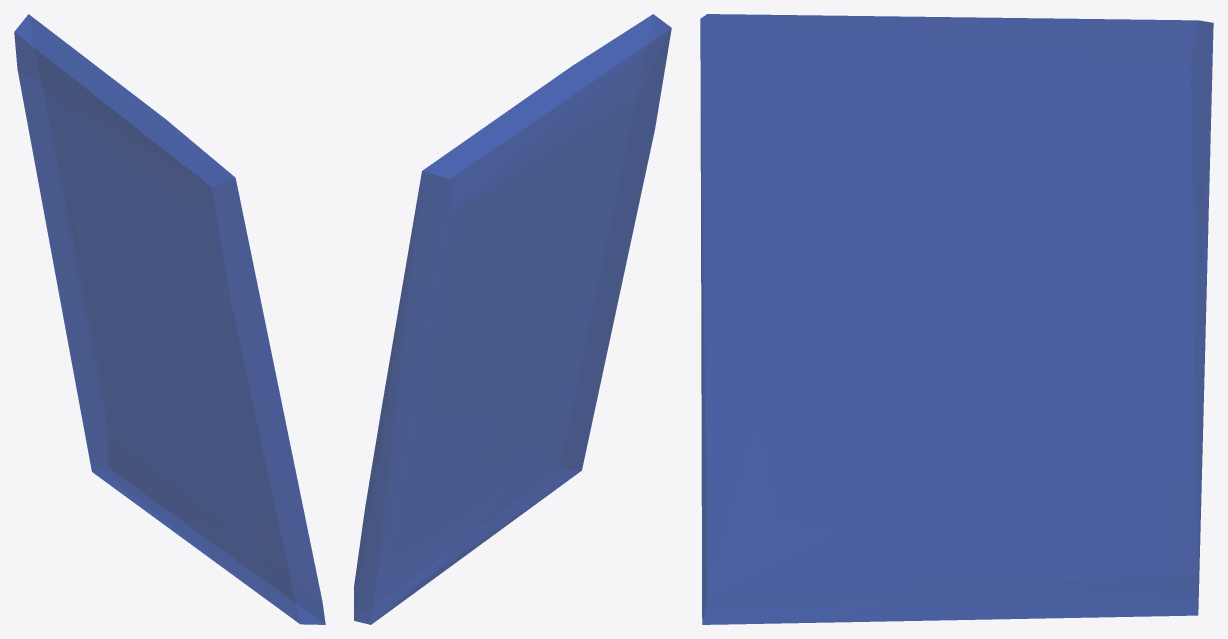
The picture shows the model from 3 angles, left to right: view 1: azimuth 30°, elevation 25°; view 2: azimuth 150°, elevation 25°; view 3: azimuth 270°, elevation 25°; orthographic projection. The views are drawn at different scales.
Visible parts, largest first — view 1: Shape_IndexedFaceSet.019; view 2: Shape_IndexedFaceSet.019; view 3: Shape_IndexedFaceSet.019.
Part boxes in pixels (box(x1,y1,x2,y2)): Shape_IndexedFaceSet.019: box(14, 14, 325, 624); Shape_IndexedFaceSet.019: box(354, 14, 671, 624); Shape_IndexedFaceSet.019: box(700, 14, 1213, 624).
Bounding box in the file's own units: 0.1422 × 0.5718 × 0.478.
